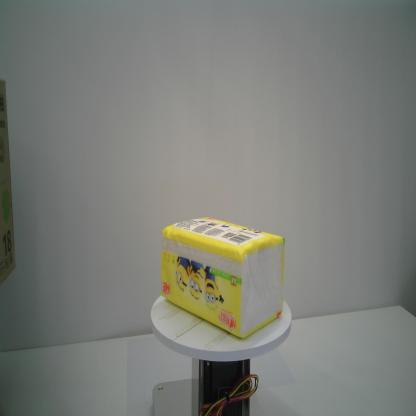Tissue: (162, 216, 285, 338)
